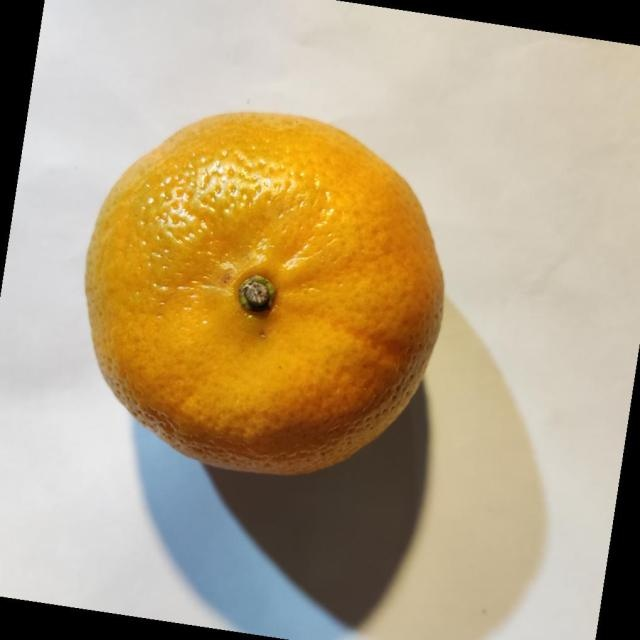agrume: (83, 109, 445, 476)
